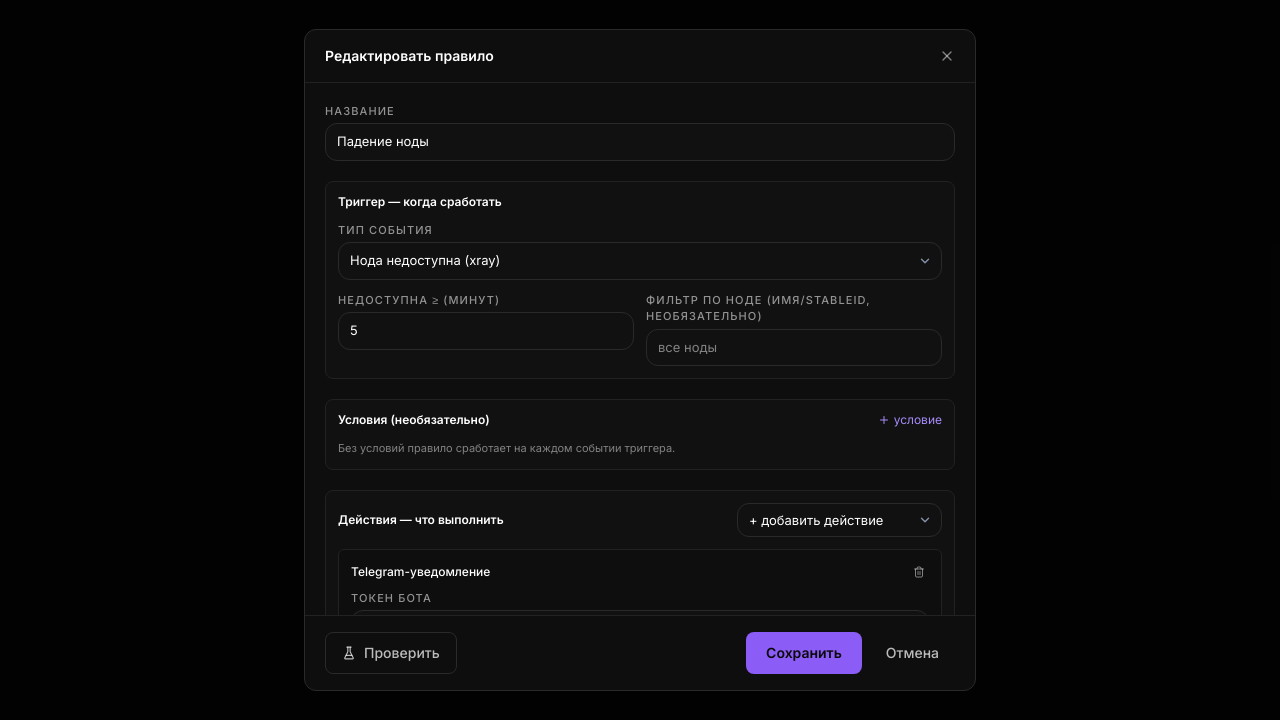
RuleModal › blocks saving a rule that has an empty-field condition
The image size is (1280, 720).
Click the button "условие". click: (910, 420)
box: 878,412 -> 942,428
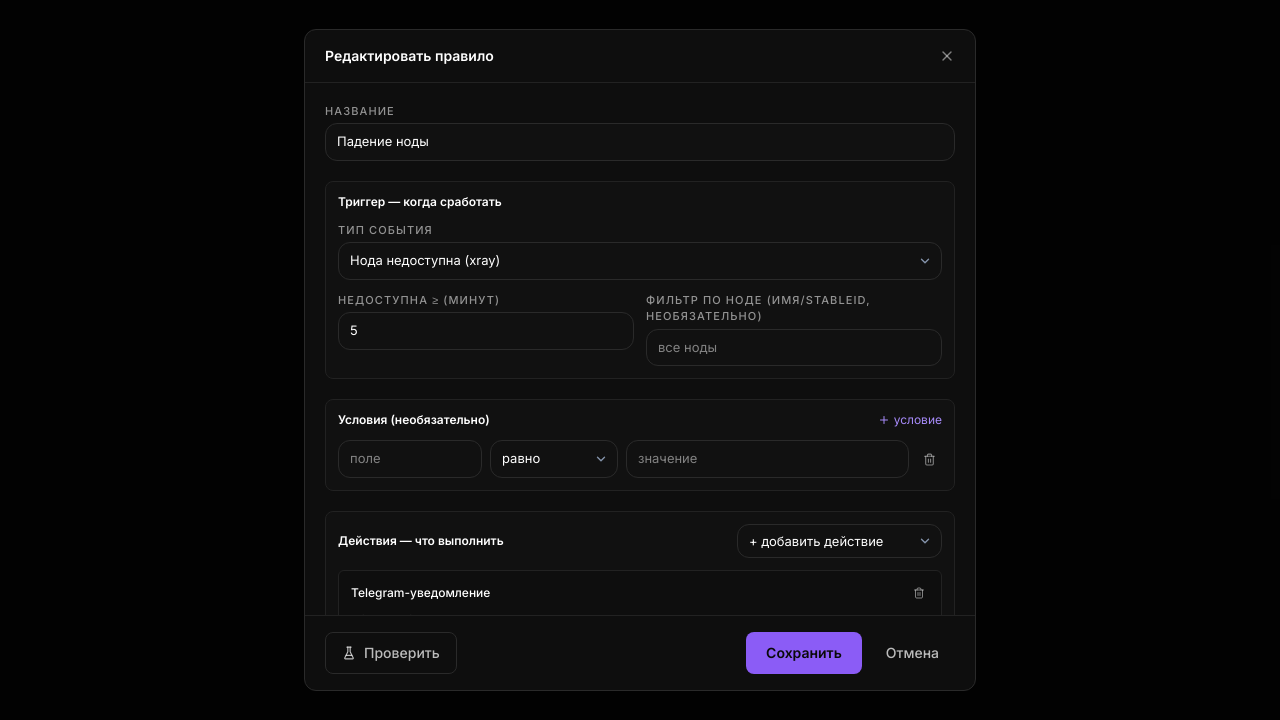
Click the button "Сохранить". click: (804, 653)
box: 746,632 -> 862,674
(page scrolled)
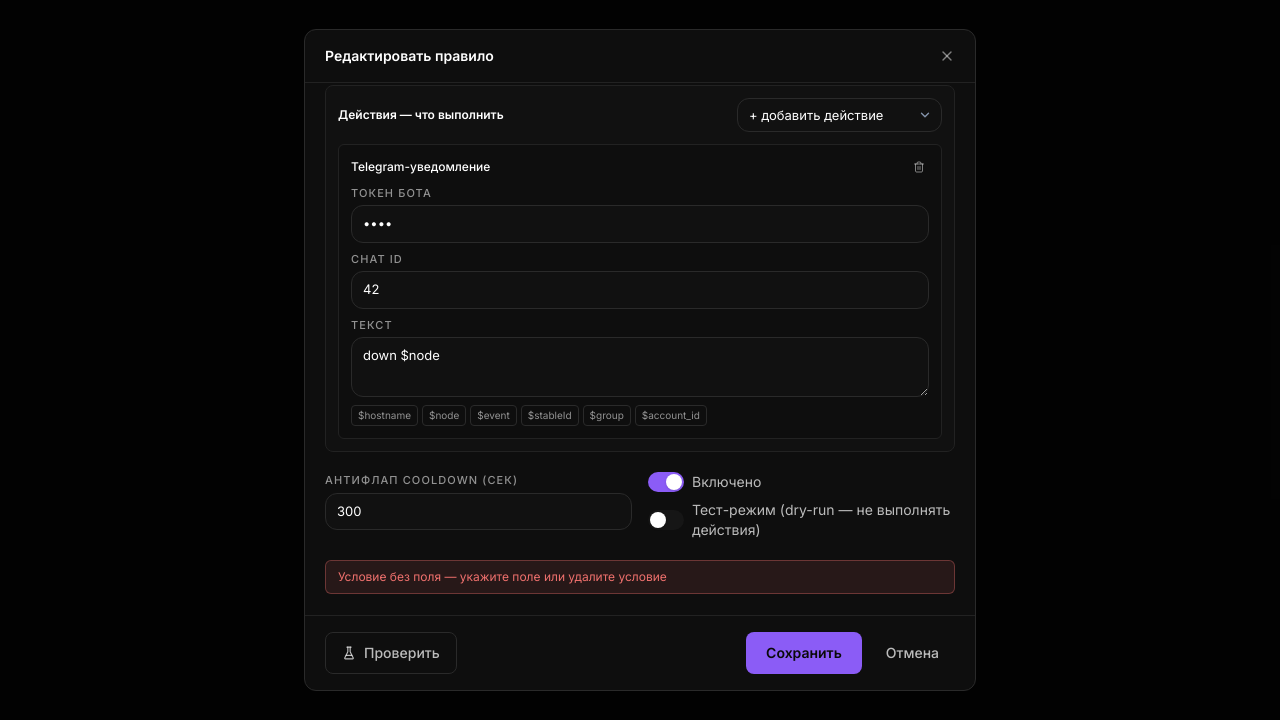
Now the text "Условие без поля — укажите поле или удалите условие" is shown, box 325,560 -> 955,594
